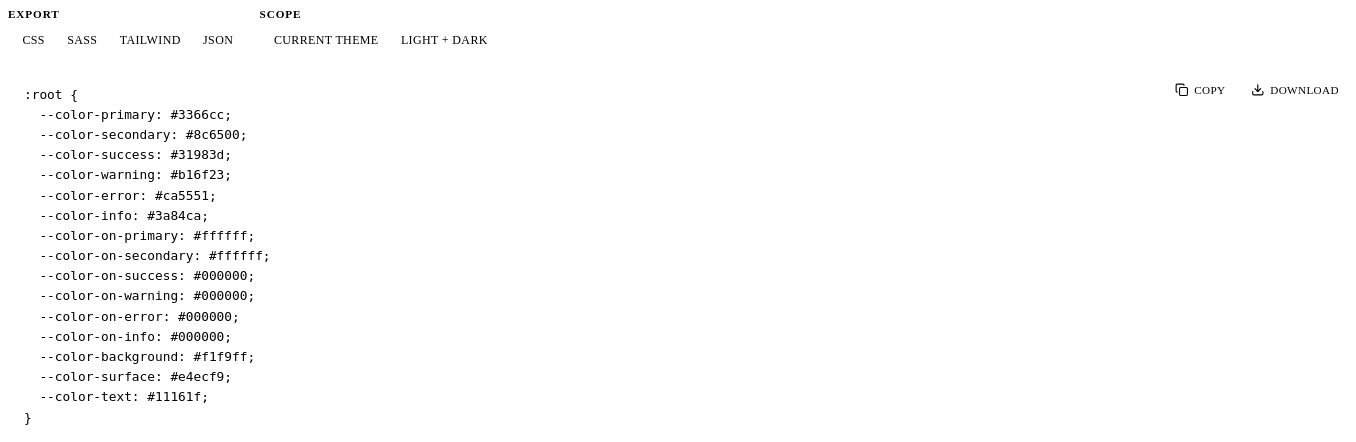
ExportPanel › switches to the Tailwind @theme snippet when that format is picked
Click the radio button labelled "Tailwind": x=150, y=40 [108,27,192,53]
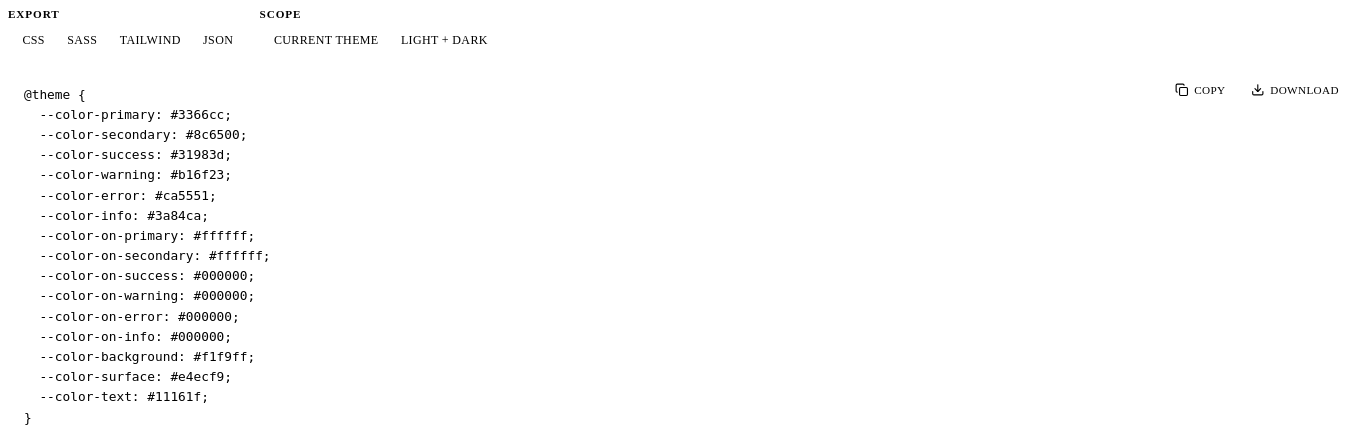
expect the text "@theme {" is shown: met, box [24,87,270,425]
